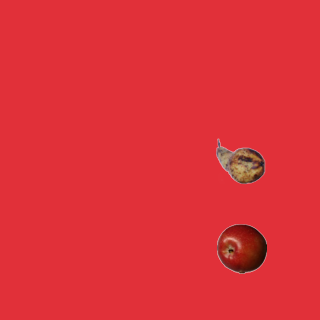Apple Braeburn: (216, 223, 266, 273)
Pear Abate: (215, 136, 265, 186)
